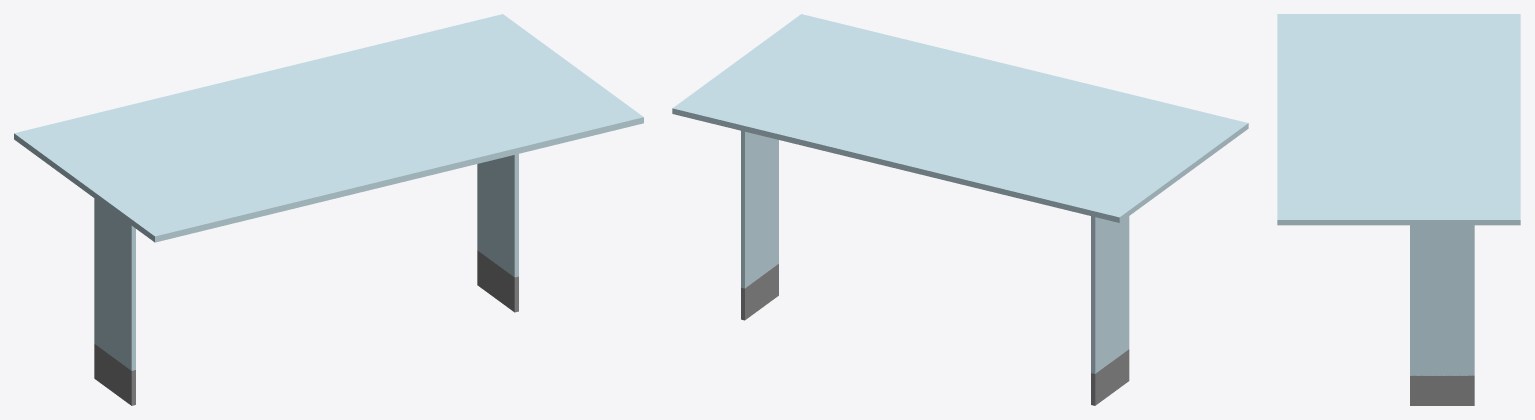
3 renders of one model, left to right at view 1: azimuth 30°, elevation 25°; view 2: azimuth 150°, elevation 25°; view 3: azimuth 270°, elevation 25°, orthographic. The views are drawn at different scales.
Parts seen in each view (by area): view 1: table7; view 2: table7; view 3: table7.
Part boxes in pixels (x1,y1,x2,y2): table7: (14,14,643,405); table7: (672,14,1248,405); table7: (1277,14,1520,405).
Size of the model in its own units: 150 by 69.9 by 74.8.
